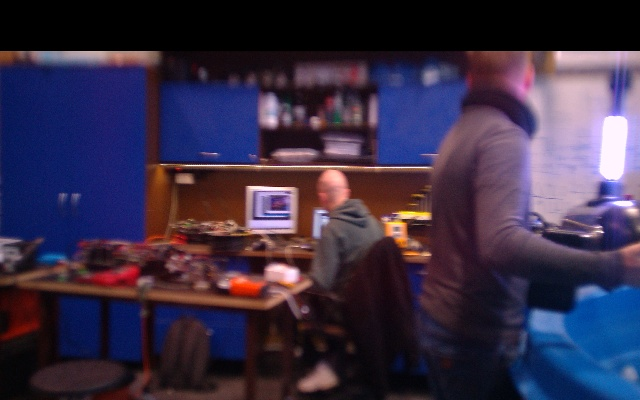white: (600, 115, 629, 181)
